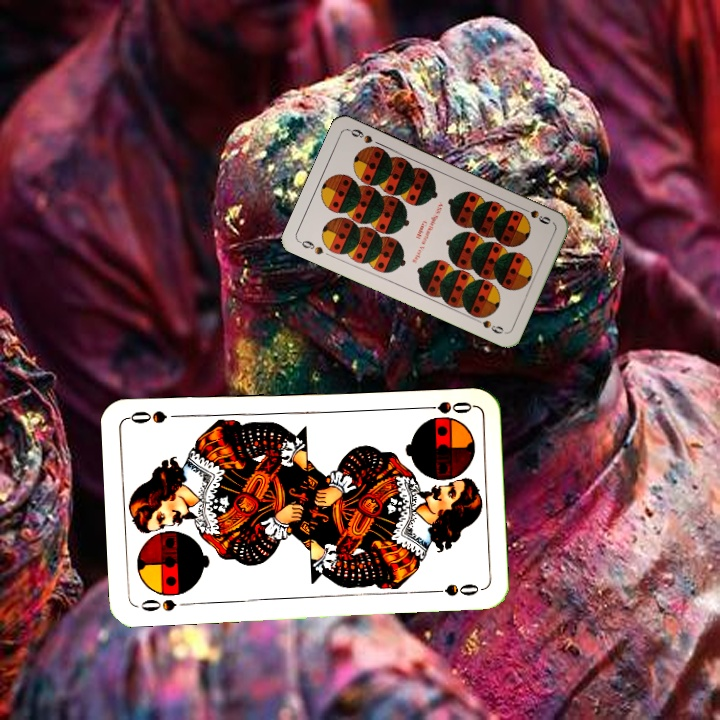S9: (516, 203, 553, 227), (295, 236, 326, 257)
SO: (415, 397, 474, 416), (137, 595, 179, 614)
